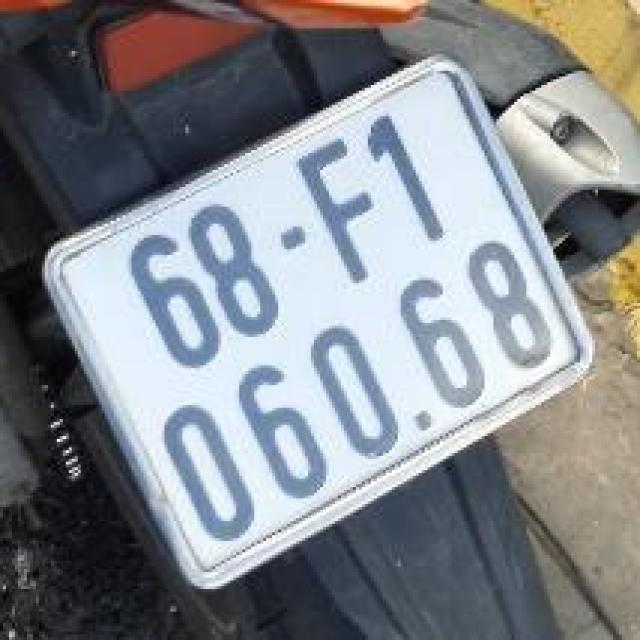0: (145, 386, 273, 556), (302, 308, 419, 474)
1: (345, 96, 466, 257)
6: (219, 347, 354, 517), (113, 219, 240, 384), (380, 264, 507, 423)
8: (451, 221, 574, 389), (176, 188, 298, 352)
F: (281, 131, 406, 296)
